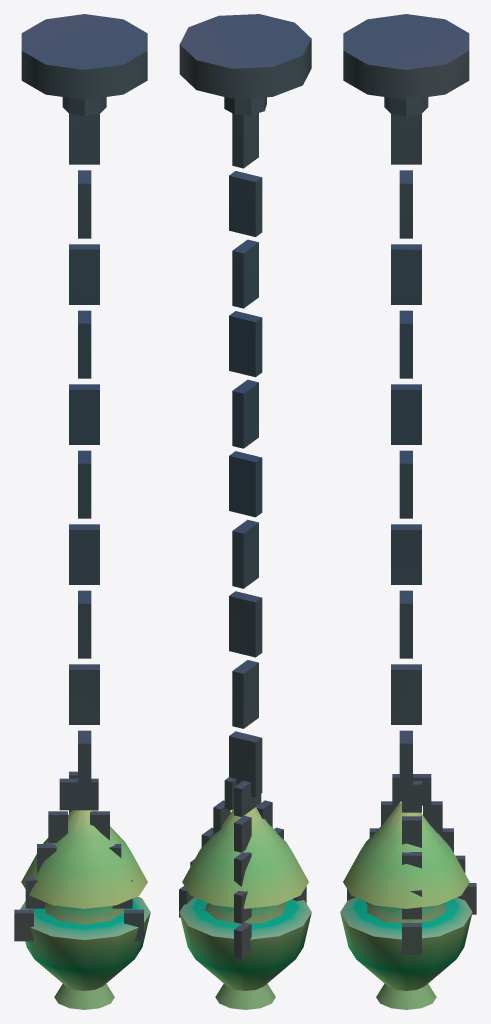
File: censer_hanging.glb
The picture shows the model from 3 angles, left to right: view 1: azimuth 90°, elevation 25°; view 2: azimuth 150°, elevation 25°; view 3: azimuth 270°, elevation 25°; orthographic projection.
Visible parts, largest first — view 1: mount, censer, censer_cover, censer_coals; view 2: mount, censer, censer_cover, censer_coals; view 3: mount, censer, censer_cover, censer_coals.
Boxes of the visible parts, x1,y1,x2,y2 form: mount: (14,14,147,941); censer: (20,896,150,1009); censer_cover: (21,810,147,908); censer_coals: (45,902,123,924); mount: (179,14,311,959); censer: (179,897,311,1009); censer_cover: (182,807,308,908); censer_coals: (204,902,286,924); mount: (343,14,476,954); censer: (340,897,472,1009); censer_cover: (343,801,469,908); censer_coals: (366,902,446,923).
Size of the model in its own units: 0.243 by 1.91 by 0.2476.
